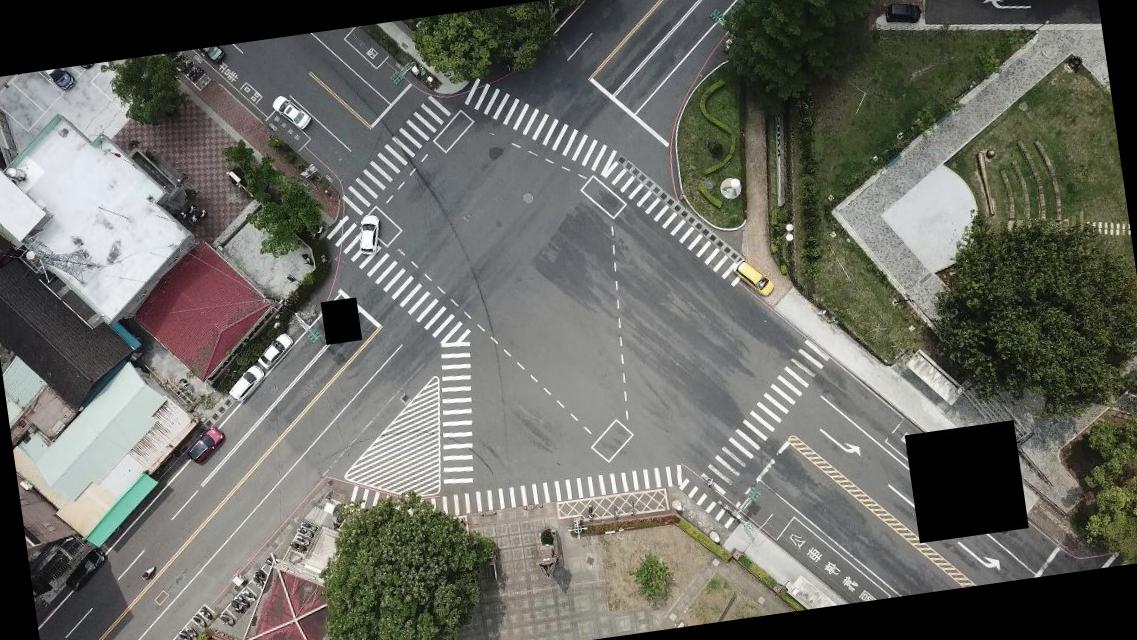vehicle: (62, 546, 112, 592), (731, 256, 776, 302), (269, 91, 314, 135), (184, 424, 228, 466), (254, 328, 296, 371), (224, 366, 266, 407), (354, 210, 385, 258), (883, 0, 923, 27), (198, 46, 227, 68)
